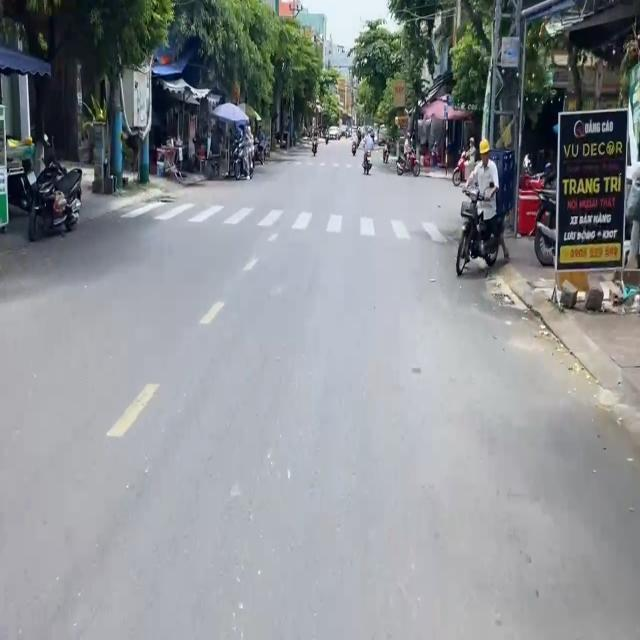walk-crossing: (128, 202, 463, 242)
